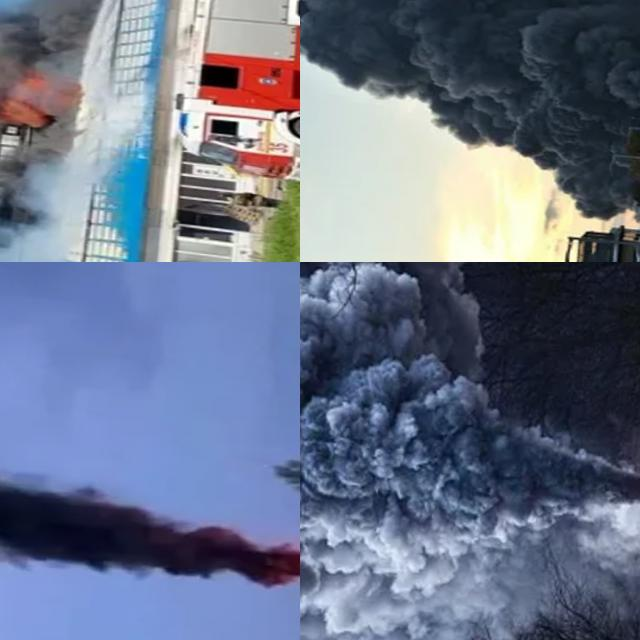smoke: (300, 262, 640, 640), (300, 0, 640, 223), (0, 419, 300, 606), (0, 0, 127, 262)
